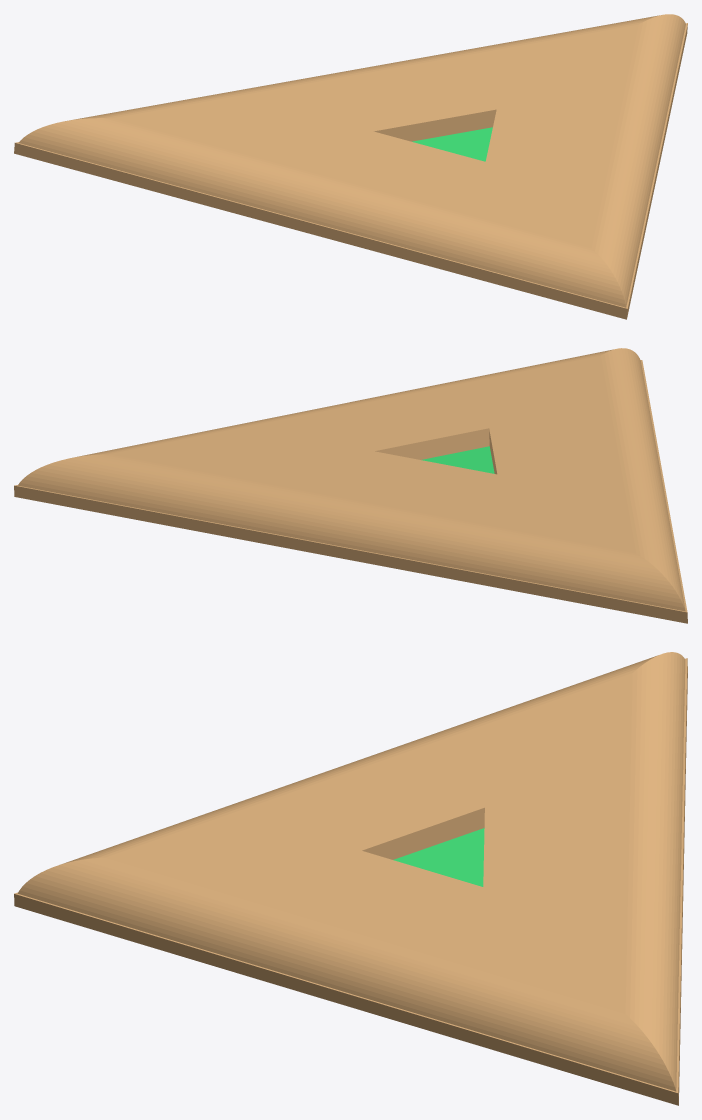
Rendered from rawfatayer.fbx.
3 renders of one model, top to bottom at view 1: azimuth 30°, elevation 25°; view 2: azimuth 150°, elevation 25°; view 3: azimuth 270°, elevation 25°, orthographic. The views are drawn at different scales.
Visible parts, largest first — view 1: Icosphere; view 2: Icosphere; view 3: Icosphere.
Boxes of the visible parts, x1,y1,x2,y2 form: Icosphere: (14, 14, 687, 319); Icosphere: (14, 348, 687, 623); Icosphere: (14, 652, 687, 1105).
Bounding box in the file's own units: 61.75 × 6.63 × 45.39.
